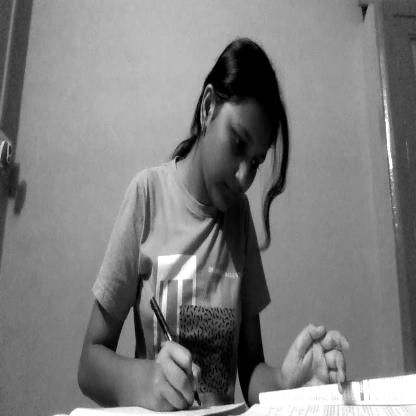Distracted: (205, 79, 267, 217)
